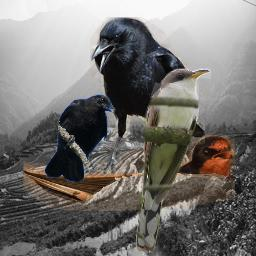Crow: (90, 17, 205, 179), (44, 94, 116, 183)
Cuckoo: (136, 68, 211, 253)
Swallow: (23, 134, 235, 211)
